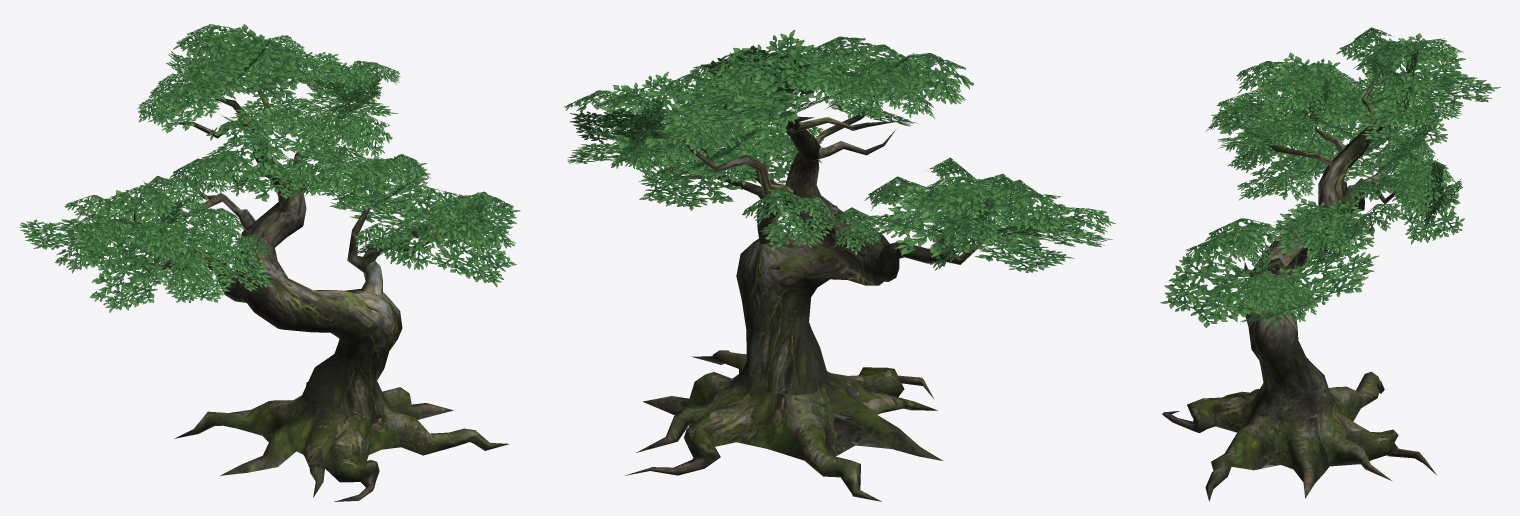
Rendered from fms_dashu01.FBX.
The picture shows the model from 3 angles, left to right: view 1: azimuth 30°, elevation 25°; view 2: azimuth 150°, elevation 25°; view 3: azimuth 270°, elevation 25°; orthographic projection. The views are drawn at different scales.
Parts seen in each view (by area): view 1: fms_da, fms_dashu01; view 2: fms_da, fms_dashu01; view 3: fms_da, fms_dashu01.
Boxes of the visible parts, x1=… form: fms_da: x1=19, y1=24, x2=520, y2=312; fms_dashu01: x1=114, y1=70, x2=508, y2=501; fms_da: x1=564, y1=30, x2=1115, y2=272; fms_dashu01: x1=624, y1=90, x2=1037, y2=501; fms_da: x1=1160, y1=27, x2=1500, y2=327; fms_dashu01: x1=1162, y1=81, x2=1436, y2=501.
Bounding box in the file's own units: 638 × 531 × 434.
